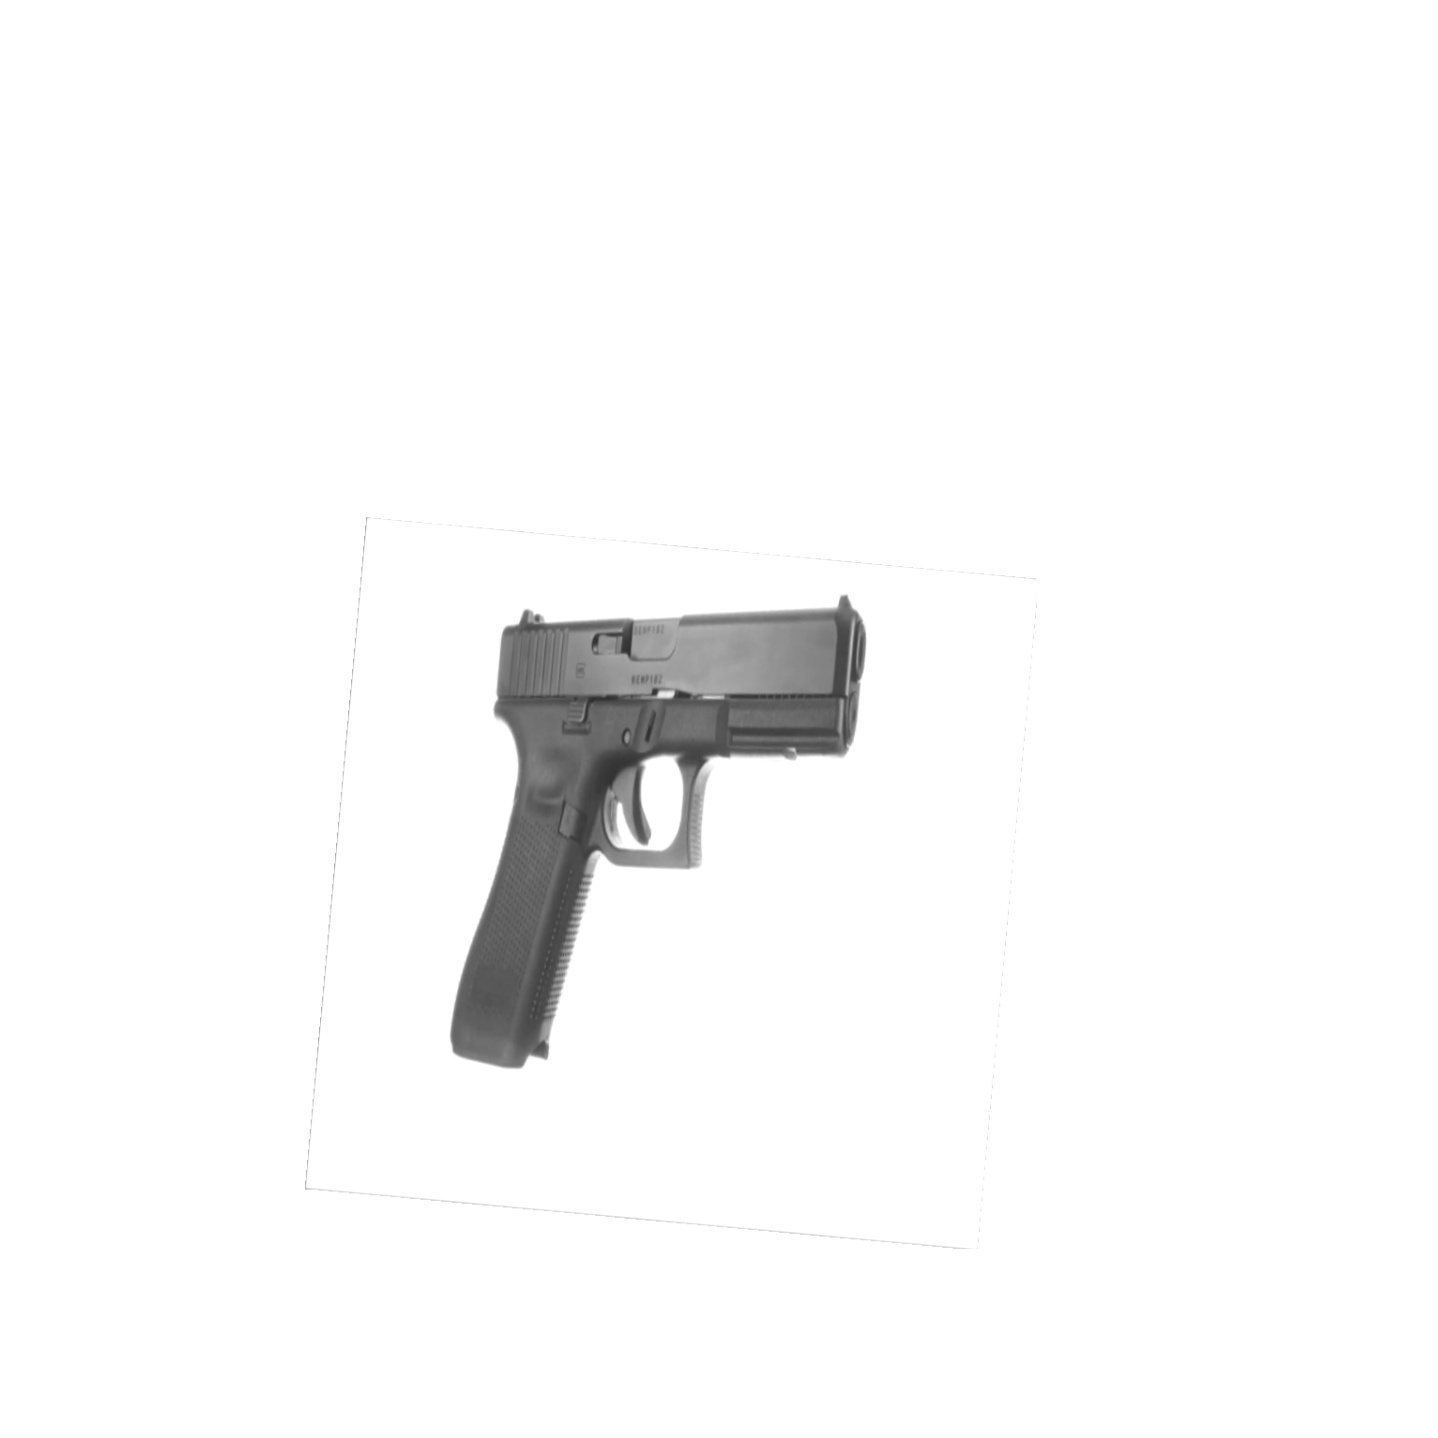gun: (439, 593, 873, 1073)
